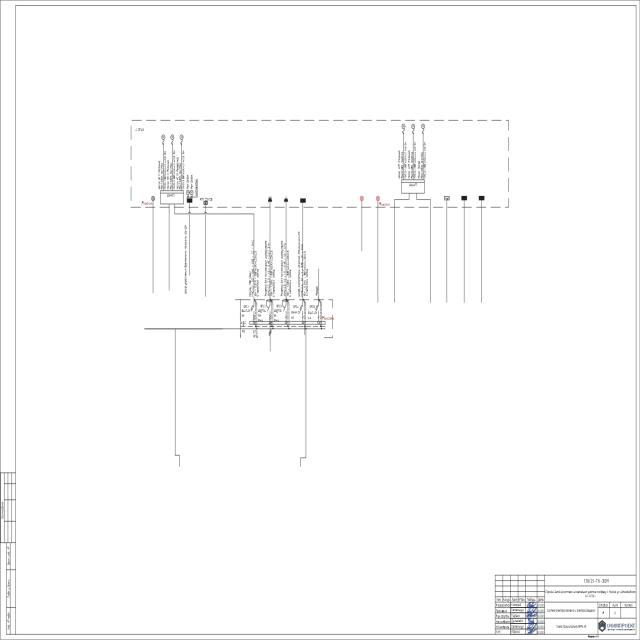-: (258, 308, 266, 322), (274, 309, 282, 322), (307, 310, 317, 320), (241, 309, 251, 318), (290, 310, 300, 319), (252, 329, 258, 338)
QF: (250, 303, 256, 320), (300, 302, 304, 320), (315, 304, 320, 318)
QFD: (282, 298, 289, 320), (266, 299, 272, 320)
